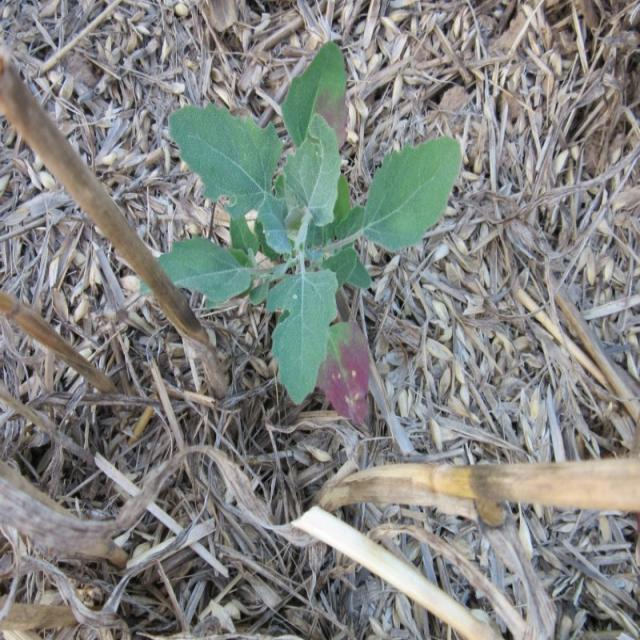ca: (162, 36, 462, 402)
